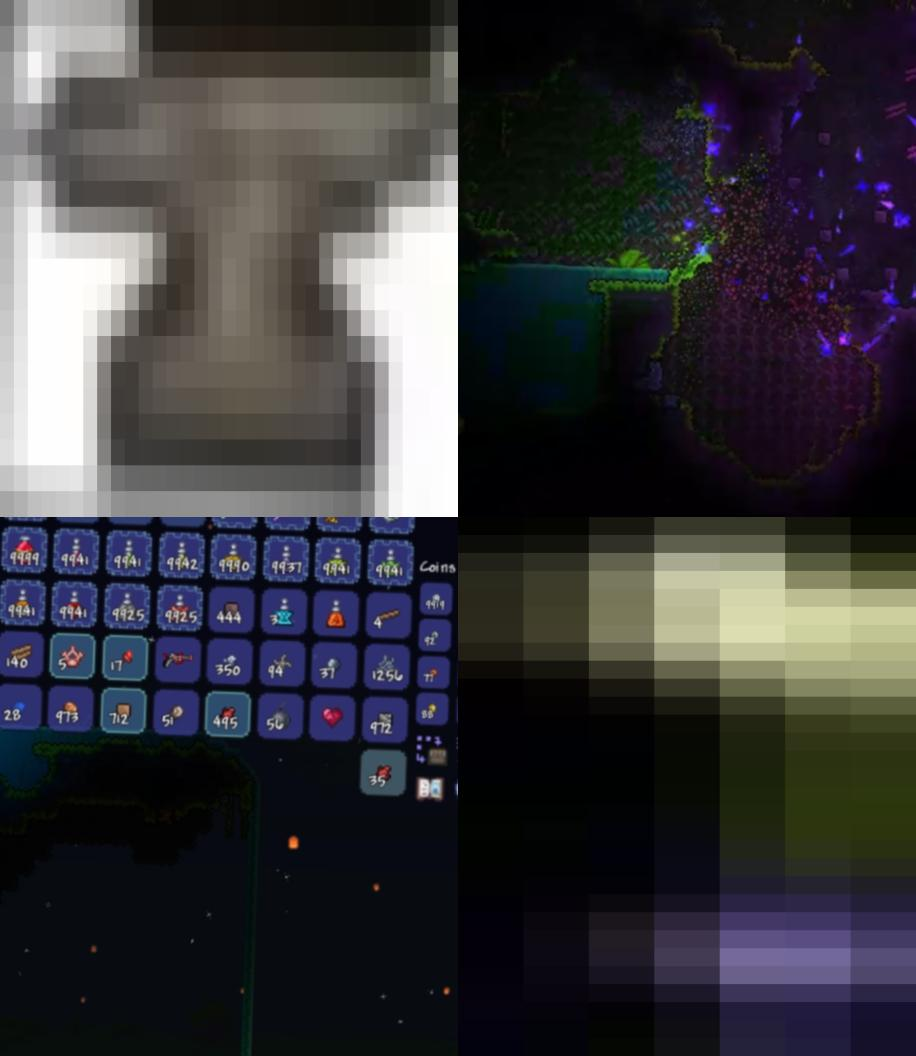anvil: (0, 0, 458, 517)
arrow: (458, 517, 916, 1056)
mirror: (378, 517, 405, 524)
